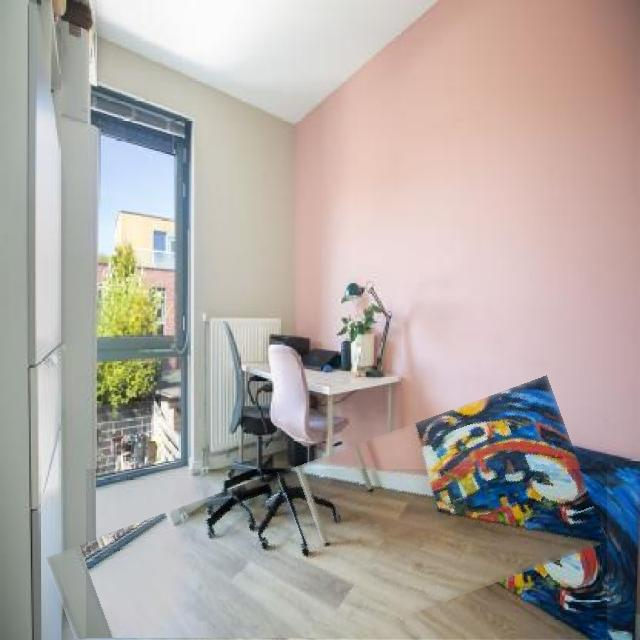floor: (87, 470, 607, 639)
